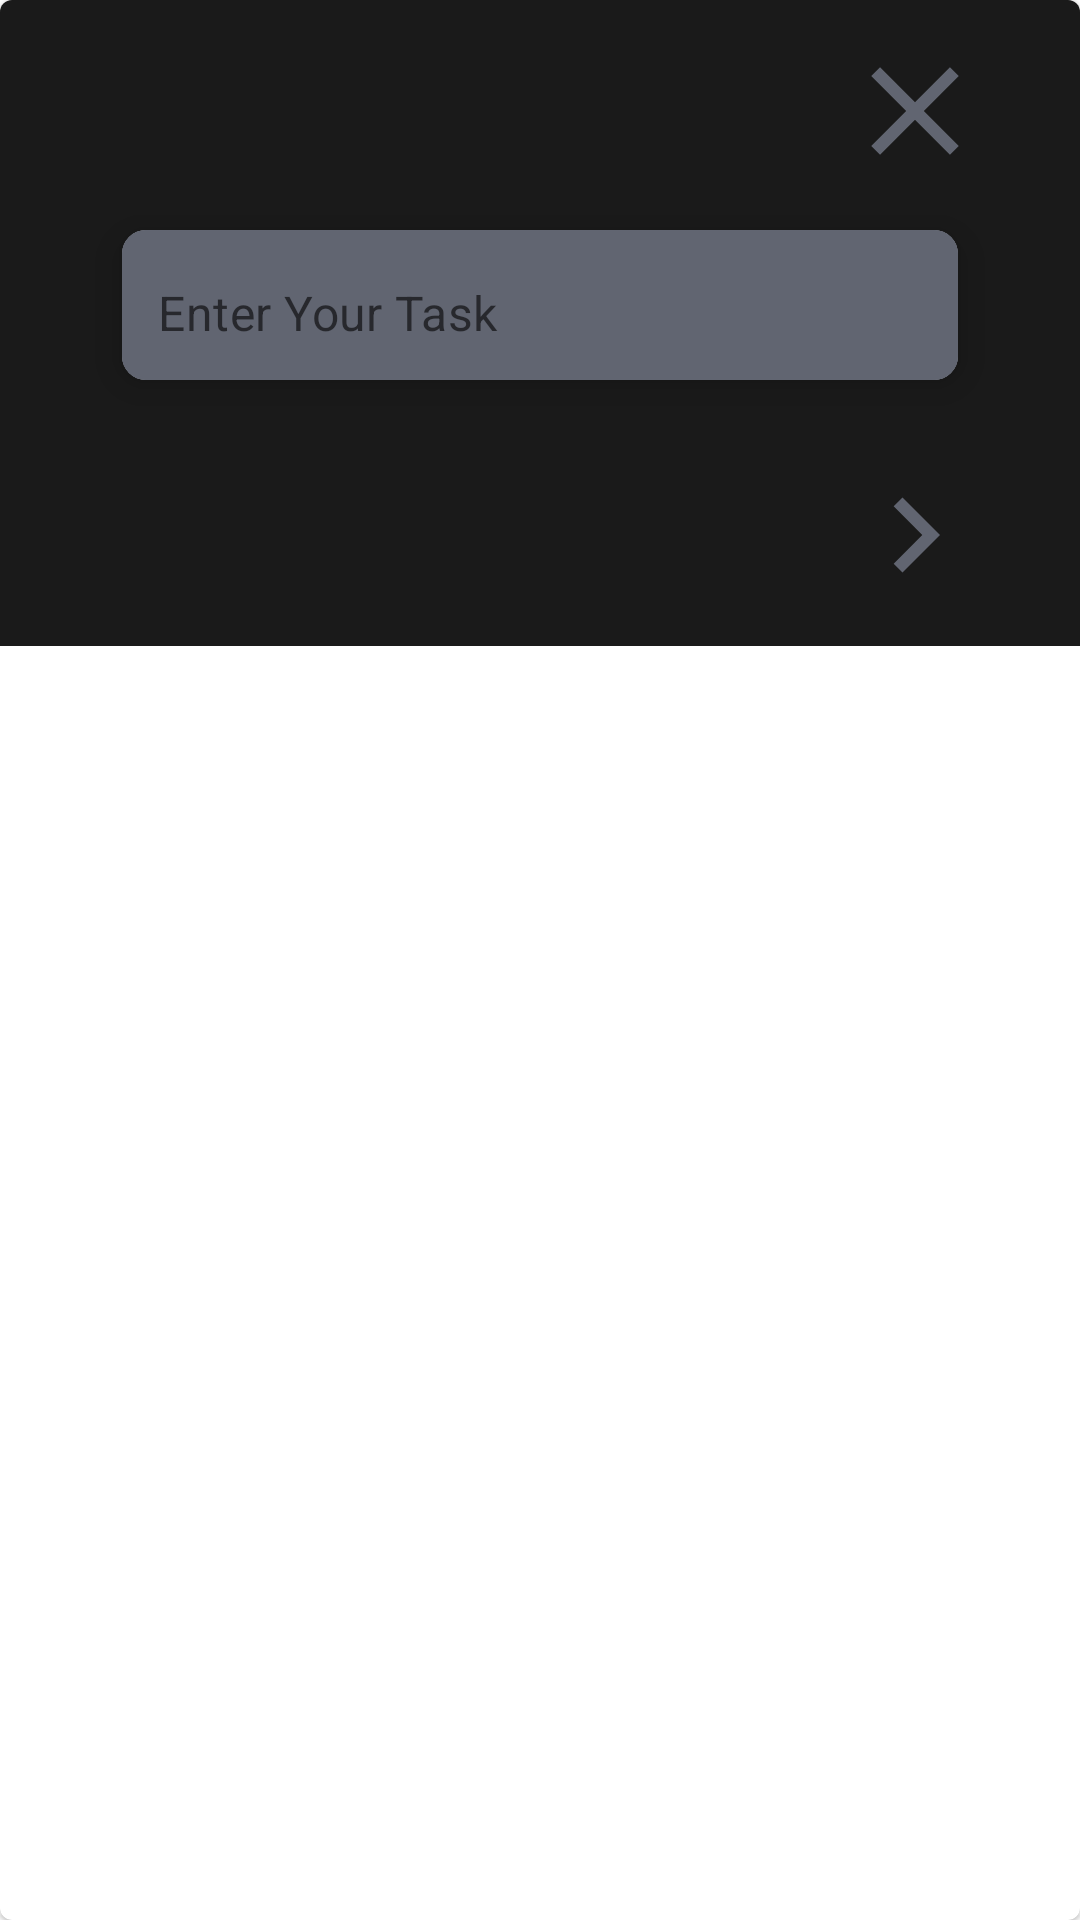

Screen size 1080*1920. Icon name, then its center in pixels as (x=x, y=y):
close: (x=915, y=111)
navigate next: (x=917, y=535)
